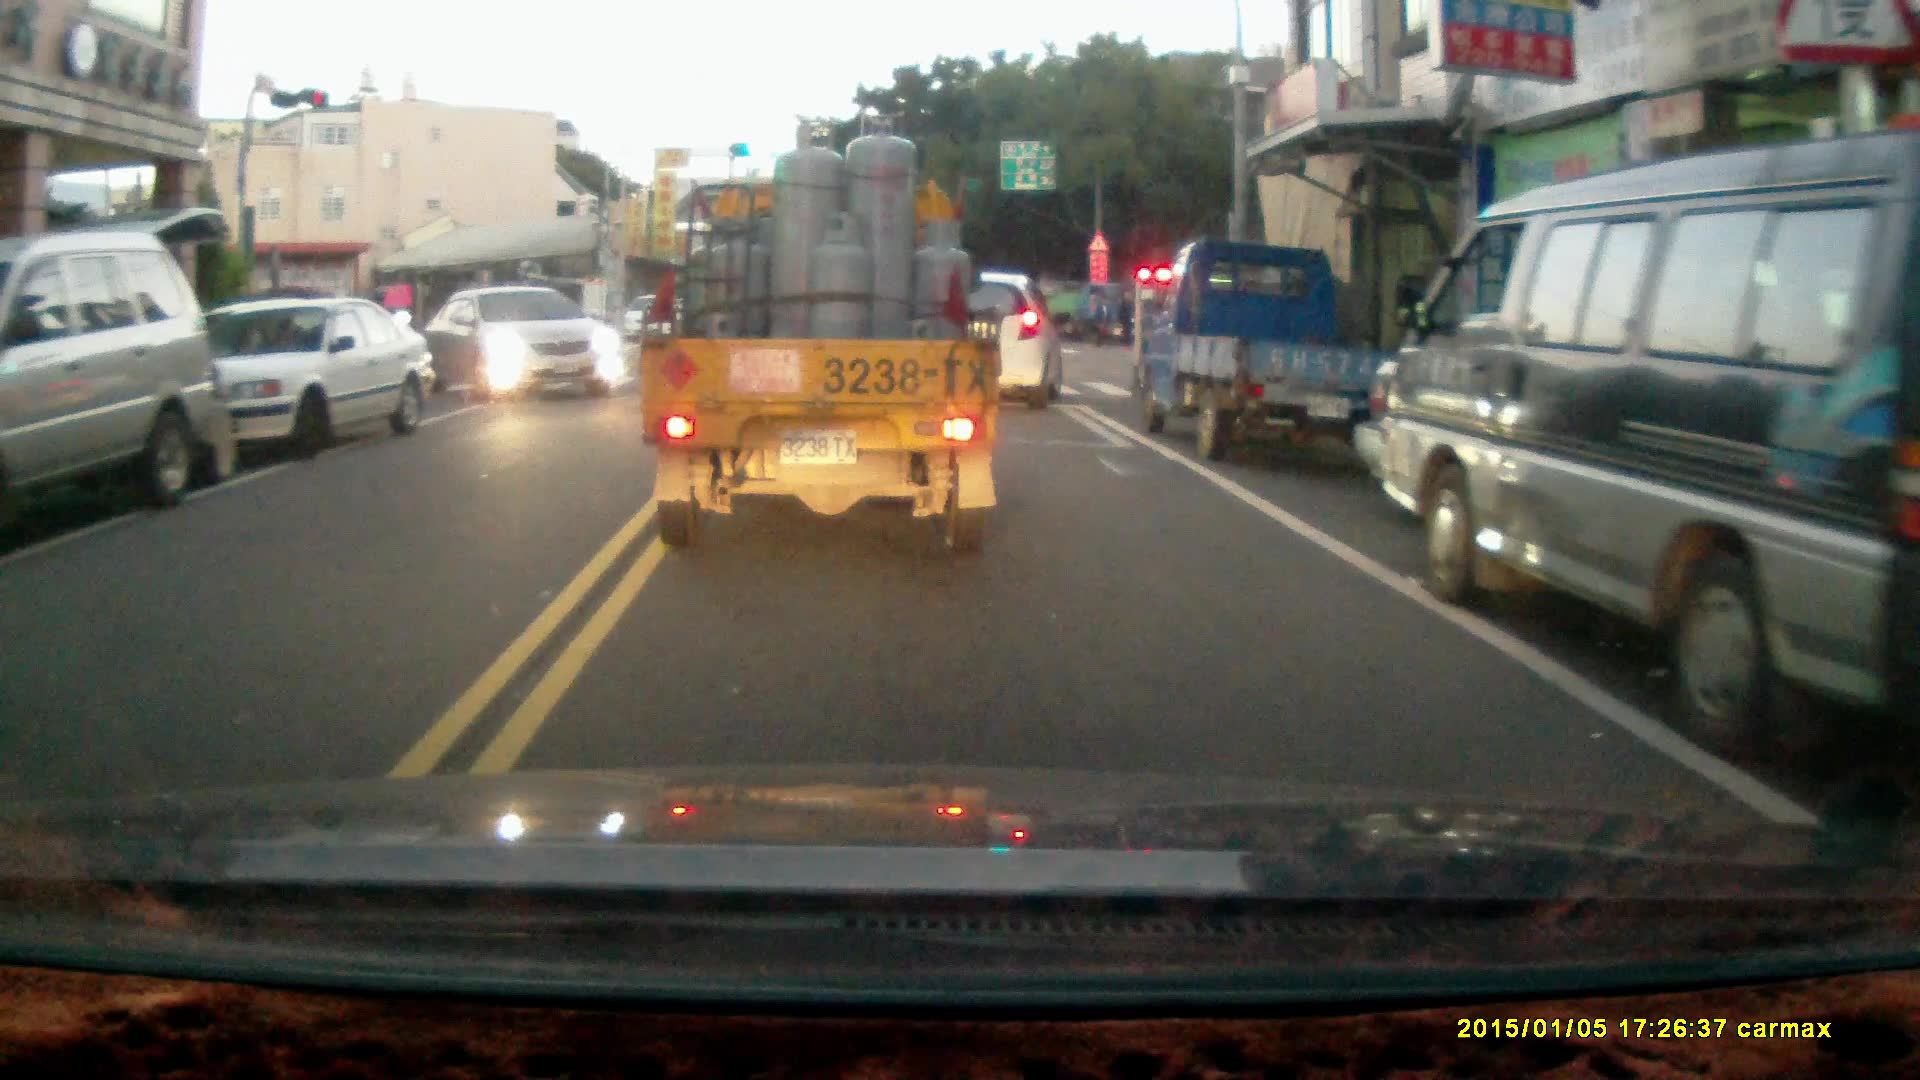vehicle: (1356, 131, 1920, 757), (644, 117, 1011, 558), (1, 225, 214, 516), (1130, 239, 1390, 463), (156, 301, 433, 475), (430, 286, 629, 405), (891, 268, 1058, 409)
